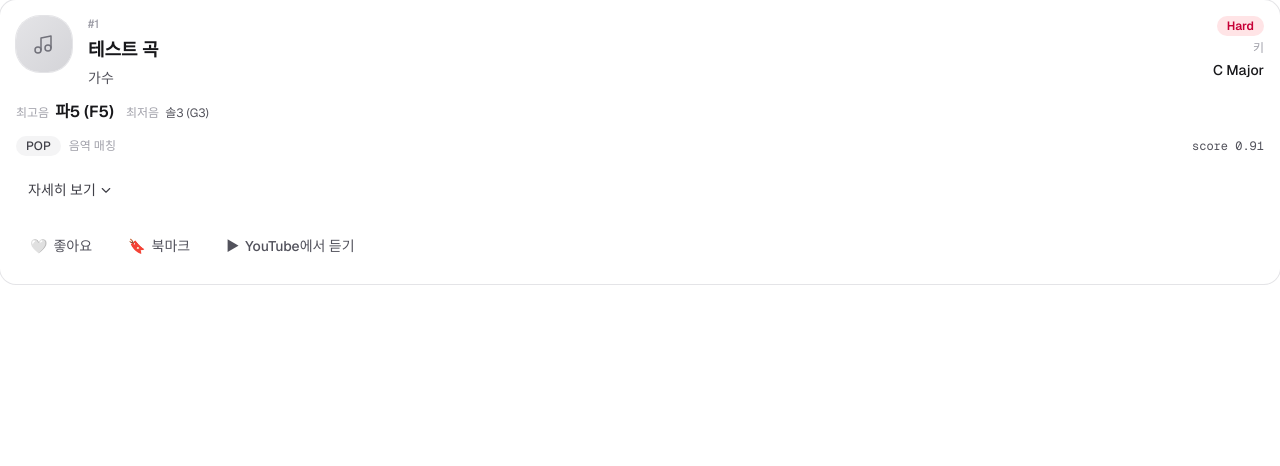
Test: SongCard › matchReason expander (closes #141) › 클릭하면 breakdown 항목(키 매칭/장르/음역 적합)이 노출된다
Click the button "자세히 보기".
click(70, 190)  # box [16,168,124,212]
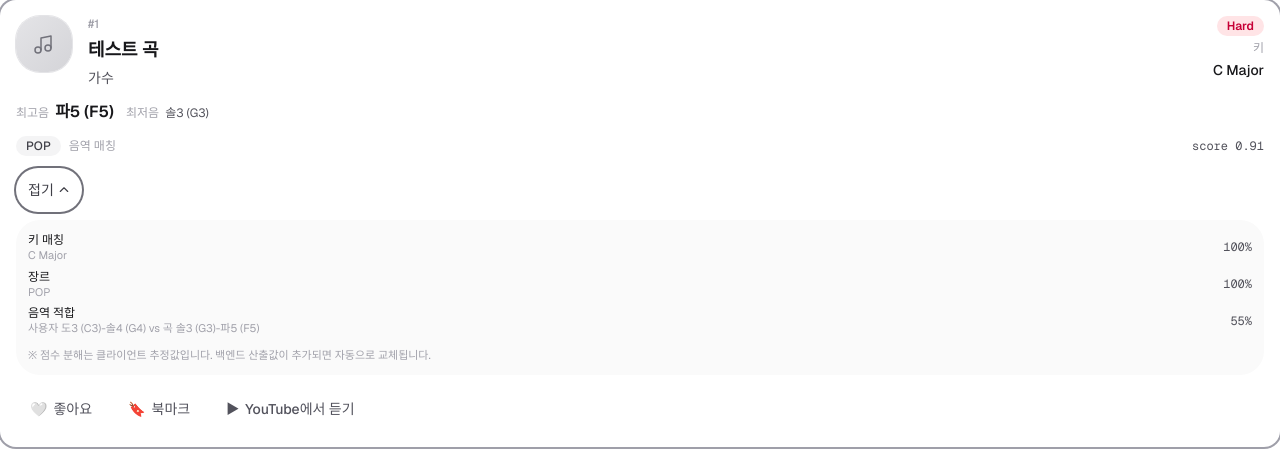
Expected: the text "키 매칭" is shown, [28,232,67,248]
Expected: the text "장르" is shown, [28,269,50,285]
Expected: the text "음역 적합" is shown, [28,305,75,321]
